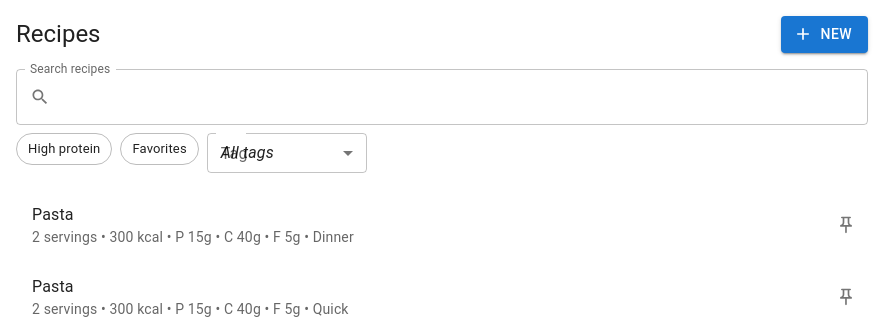
Scenario: RecipesListRoute › shows tag filter options based on data
opens the select
Click the dropdown named "filter by tag": point(247, 152) [221, 143, 274, 162]
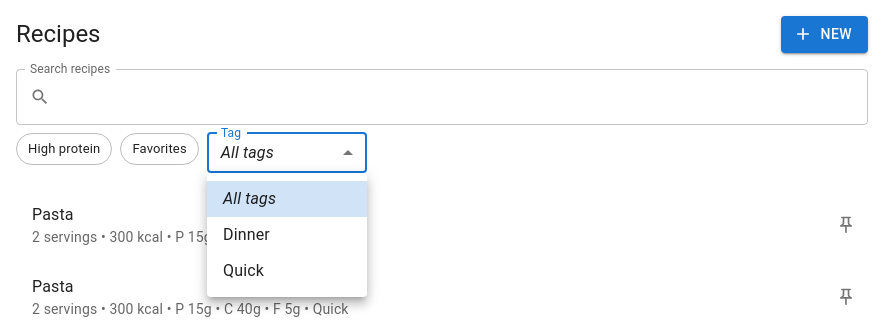
Result: the option "Dinner" is shown at [223, 225, 270, 244]
Result: the option "Quick" is shown at [223, 261, 264, 280]
